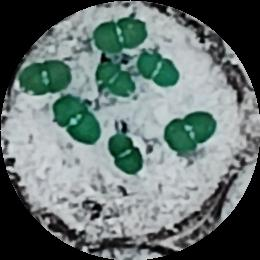Basil: (57, 94, 106, 148), (165, 111, 214, 153), (22, 59, 70, 95), (96, 18, 147, 51), (94, 65, 137, 99), (110, 132, 141, 174), (145, 55, 179, 86)
